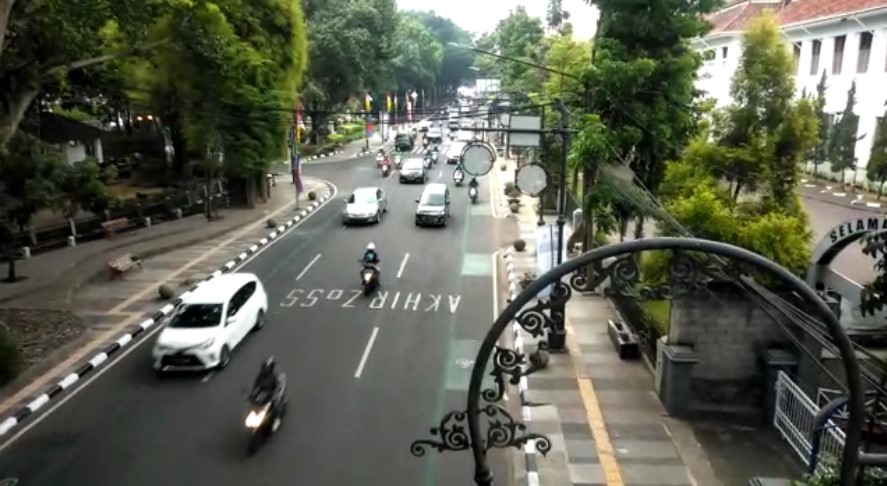mobil: (154, 270, 267, 370), (340, 185, 390, 227), (414, 181, 450, 231)
motor: (244, 358, 285, 454), (359, 241, 385, 297)
